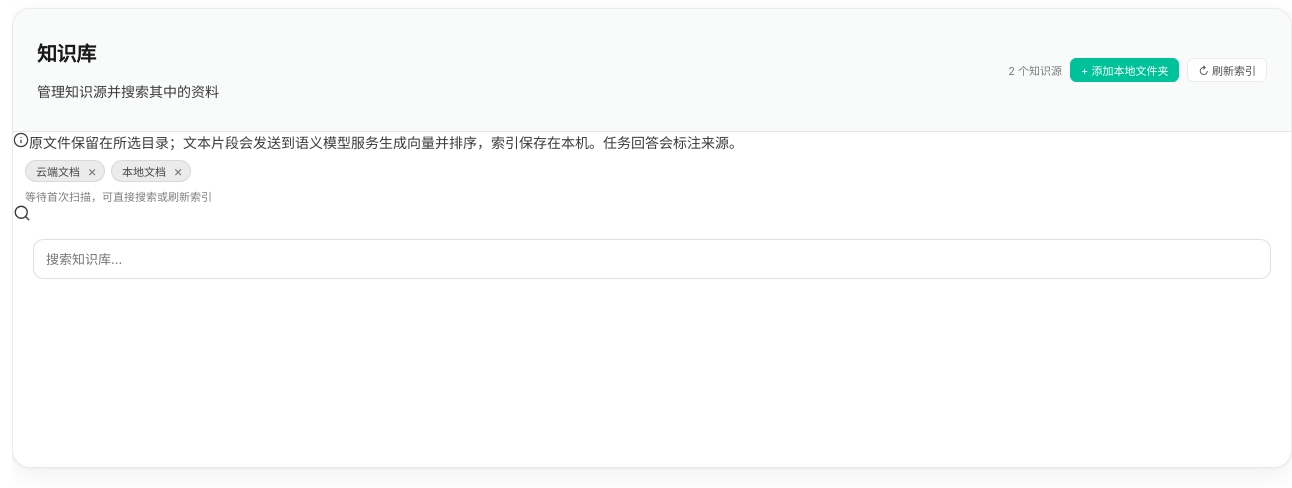
KnowledgeBasePanel › 部分 provider 失败时保留可用结果并给出明确反馈
In the field labelled "搜索知识库": (652, 259) [33, 239, 1271, 279], type "文档"
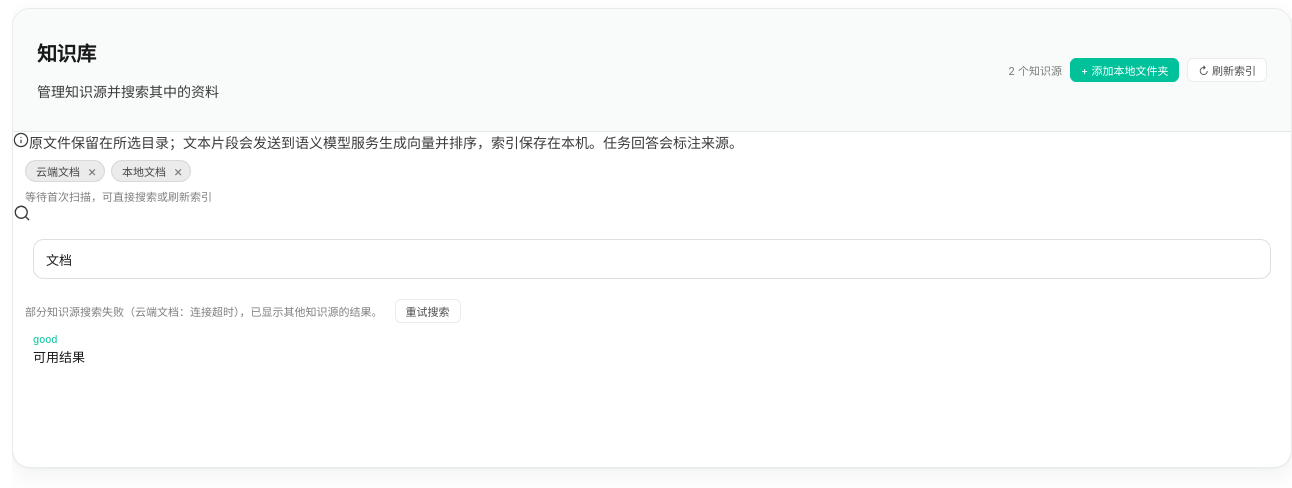
Expected: the button with aria-label "打开知识条目：可用结果" is shown, [21, 323, 1283, 376]
Expected: the message shows "部分知识源搜索失败", [25, 305, 382, 319]
Expected: the message shows "云端文档：连接超时", [25, 305, 382, 319]
